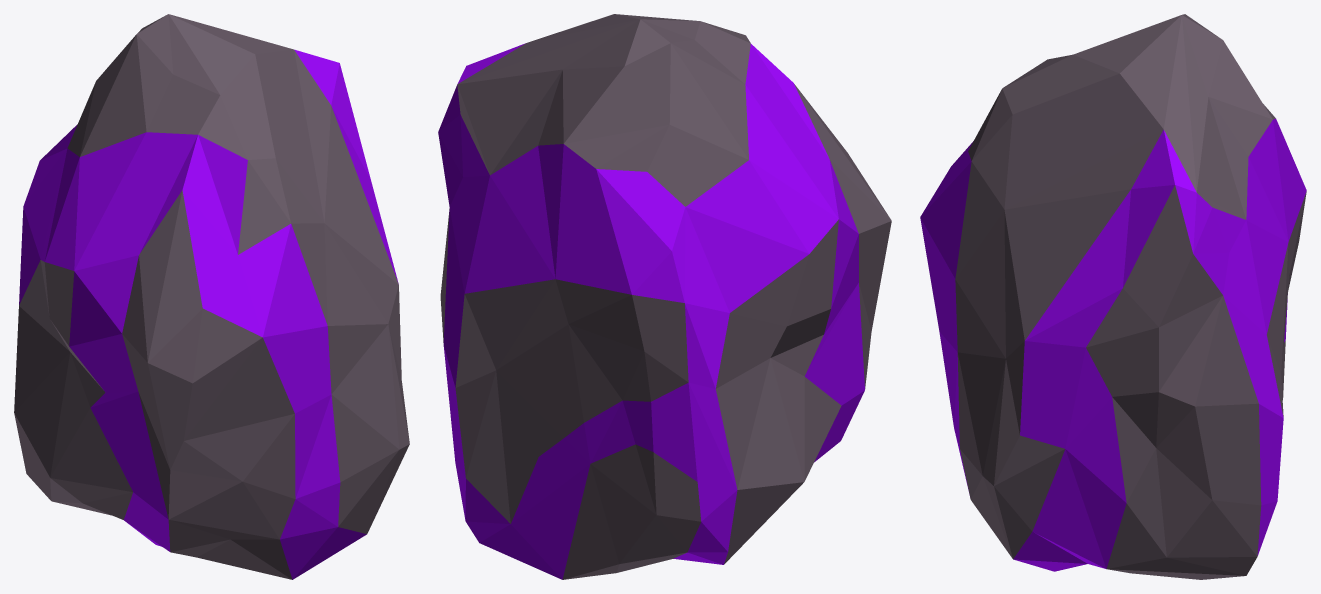
The model's file is Natural_D.fbx.
3 views of the same model, side by side, from view 1: azimuth 30°, elevation 25°; view 2: azimuth 150°, elevation 25°; view 3: azimuth 270°, elevation 25° (orthographic). The views are drawn at different scales.
Visible parts, largest first — view 1: Cube; view 2: Cube; view 3: Cube.
Part boxes in pixels (<box>): Cube: <box>14,14,409,579</box>; Cube: <box>438,14,891,579</box>; Cube: <box>920,14,1306,579</box>.
Bounding box in the file's own units: 1 × 1.5 × 1.
